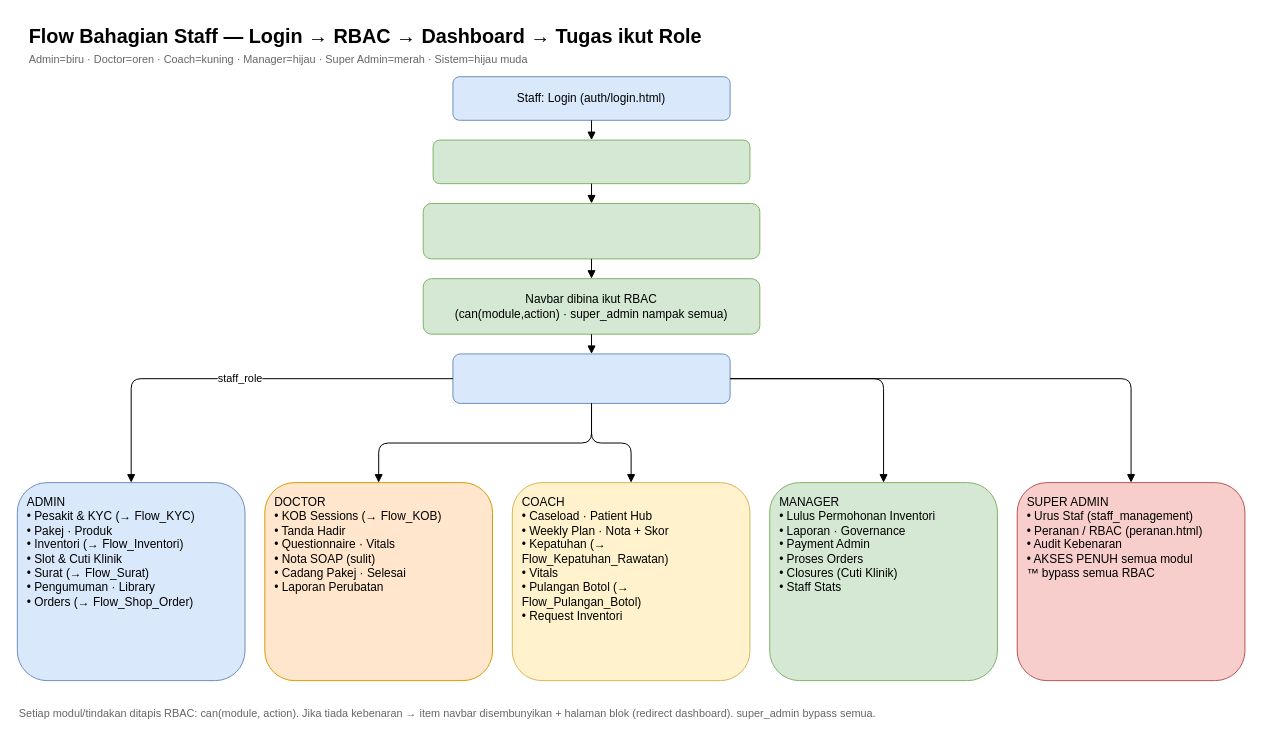
This 1262x737 diagram has some shape labels left out. The centre of each missing label's shape, as x and y in pixels:
"checkAuth() → profile (role = staff · staff_role)" goes at [591,161].
"Dashboard (KPI ikut role) — per-page guard di _shared.js" goes at [591,378].
"loadPermissions() ← psy_user_effective_permissions (cache module × action)" goes at [591,230].
